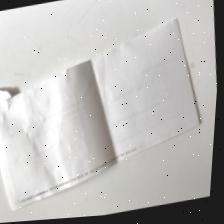paper: (0, 18, 210, 220)
